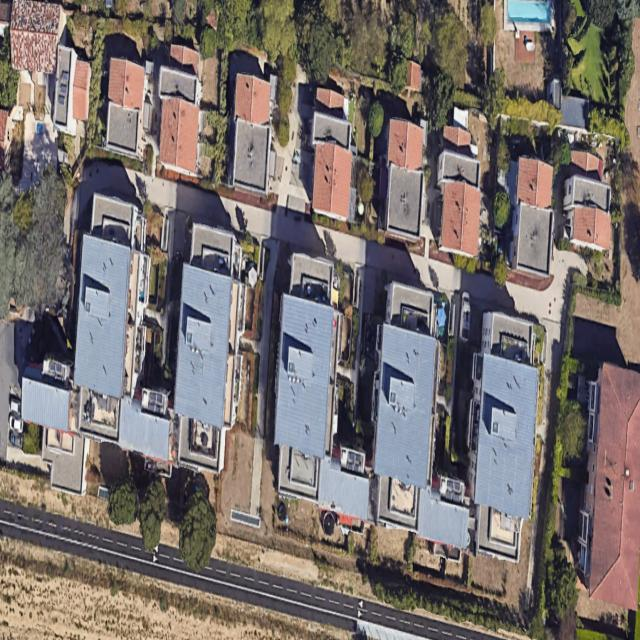immeuble: (266, 444, 533, 568), (9, 367, 234, 482), (72, 192, 157, 398), (171, 222, 251, 430), (462, 312, 542, 518), (271, 254, 349, 459), (366, 282, 445, 484)
maison: (576, 364, 639, 609), (155, 44, 204, 177), (225, 74, 278, 196), (99, 57, 158, 160), (559, 146, 614, 255), (309, 90, 354, 221), (509, 158, 556, 282), (436, 126, 481, 253), (382, 118, 427, 238)
